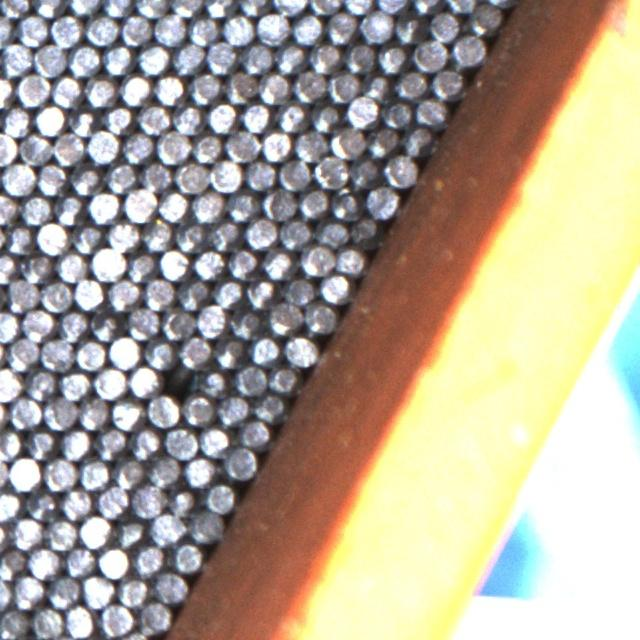tool: (144, 392, 180, 427), (130, 483, 166, 518), (146, 452, 182, 487), (132, 541, 166, 576), (55, 307, 89, 342), (5, 335, 39, 370), (8, 395, 42, 430), (244, 214, 278, 249), (122, 187, 156, 222), (412, 37, 447, 71), (23, 366, 57, 401), (312, 154, 347, 188), (221, 445, 256, 479), (265, 299, 299, 334), (182, 392, 216, 426), (107, 334, 141, 368), (208, 158, 242, 192), (324, 9, 358, 43), (81, 572, 115, 606), (300, 242, 334, 276), (152, 570, 186, 604), (156, 129, 190, 163), (170, 41, 204, 75), (136, 41, 170, 75), (43, 395, 77, 429), (226, 188, 260, 222), (308, 40, 342, 74), (1, 161, 35, 195), (100, 602, 134, 636), (120, 130, 154, 164), (67, 42, 101, 76), (262, 186, 296, 220), (225, 128, 259, 162), (9, 516, 43, 550), (93, 425, 127, 459), (150, 511, 184, 545), (160, 306, 194, 340), (46, 573, 80, 607), (84, 73, 118, 107), (282, 273, 316, 307), (39, 337, 73, 371), (191, 188, 225, 222), (164, 424, 198, 458), (261, 246, 295, 280), (50, 73, 84, 107), (224, 68, 258, 102), (278, 215, 312, 249), (347, 154, 381, 188), (126, 305, 160, 339), (228, 304, 262, 338), (24, 426, 58, 460), (212, 335, 246, 369), (330, 124, 364, 158), (116, 573, 150, 607), (290, 12, 324, 46), (110, 454, 144, 488), (292, 68, 326, 102), (243, 275, 277, 309), (72, 276, 106, 310), (392, 10, 426, 44), (383, 153, 417, 187), (284, 334, 318, 368), (314, 215, 348, 249), (140, 160, 174, 194), (38, 278, 72, 312), (136, 601, 170, 635), (188, 508, 222, 542), (102, 41, 135, 76), (85, 12, 118, 47), (8, 456, 41, 491), (95, 483, 128, 518), (197, 423, 232, 456), (297, 185, 330, 219), (452, 33, 486, 66), (221, 12, 254, 46), (10, 574, 43, 608), (157, 188, 190, 222), (74, 337, 108, 370), (96, 545, 130, 578), (92, 365, 126, 398), (104, 160, 138, 193), (18, 193, 52, 226), (69, 162, 103, 195), (129, 424, 162, 458), (77, 396, 110, 430), (106, 218, 139, 252), (110, 396, 143, 430), (360, 8, 393, 42), (278, 157, 311, 191), (429, 8, 462, 42), (179, 334, 212, 368), (258, 71, 292, 104), (330, 186, 363, 220), (143, 336, 177, 369), (50, 13, 83, 47), (127, 363, 160, 397), (248, 333, 281, 367), (58, 367, 91, 401), (21, 307, 54, 341), (326, 69, 360, 102), (188, 70, 221, 104), (259, 127, 292, 161), (19, 250, 53, 283), (17, 132, 51, 165), (119, 72, 153, 105), (208, 217, 241, 251), (273, 41, 307, 74), (225, 245, 259, 278), (25, 486, 58, 520), (187, 13, 220, 47), (431, 66, 465, 99), (243, 157, 277, 190), (15, 72, 49, 105), (344, 95, 378, 128), (33, 102, 67, 135), (90, 247, 124, 280), (5, 277, 38, 311), (87, 188, 120, 222), (177, 276, 210, 310), (343, 40, 377, 73), (216, 391, 249, 425), (294, 128, 327, 162), (136, 101, 170, 134), (124, 248, 157, 282), (394, 67, 428, 100), (196, 365, 230, 398), (366, 184, 399, 218), (161, 359, 195, 392), (69, 220, 104, 252), (44, 517, 77, 550), (154, 72, 187, 105), (33, 42, 66, 75), (119, 13, 152, 46), (78, 514, 111, 547), (205, 40, 238, 73), (27, 545, 60, 578), (233, 362, 266, 395), (256, 12, 289, 45), (53, 193, 86, 226), (376, 40, 409, 73), (35, 162, 68, 195), (60, 486, 93, 519), (107, 277, 140, 310), (42, 457, 75, 490), (59, 426, 92, 459), (16, 13, 49, 46), (239, 41, 272, 74), (275, 99, 308, 132), (0, 104, 33, 137), (140, 217, 173, 250), (240, 99, 273, 132), (77, 456, 110, 489), (172, 102, 205, 135), (401, 123, 434, 156), (365, 124, 398, 157), (166, 483, 199, 516), (113, 514, 146, 547), (176, 159, 208, 193), (169, 540, 203, 572), (52, 131, 84, 165), (0, 42, 32, 76), (62, 544, 94, 578), (85, 130, 119, 162), (308, 100, 342, 132), (174, 218, 206, 252), (414, 95, 448, 127), (304, 300, 336, 334), (236, 416, 270, 448), (158, 246, 190, 279), (55, 249, 87, 282), (36, 220, 68, 253), (154, 12, 186, 45), (4, 223, 36, 256), (206, 100, 238, 133), (183, 454, 216, 486), (142, 276, 174, 309), (30, 606, 63, 638), (253, 390, 286, 422), (348, 212, 380, 245), (192, 246, 224, 279), (318, 271, 351, 303), (194, 304, 227, 336), (102, 102, 134, 135), (90, 307, 122, 340), (204, 480, 236, 513), (467, 2, 500, 34), (381, 97, 413, 129), (334, 245, 366, 277), (64, 604, 96, 636), (67, 105, 99, 137), (191, 130, 223, 162), (268, 362, 300, 394), (361, 72, 394, 103), (211, 277, 243, 308), (0, 606, 28, 640), (0, 546, 26, 580), (0, 426, 23, 460), (0, 366, 22, 400), (0, 488, 23, 520), (34, 0, 66, 19), (0, 308, 19, 340), (0, 190, 17, 224), (204, 0, 236, 18), (136, 0, 168, 18), (0, 0, 32, 18), (0, 252, 18, 284), (170, 0, 203, 17), (0, 131, 16, 165), (102, 0, 134, 17), (237, 0, 270, 16), (272, 0, 306, 15), (0, 74, 15, 108), (409, 0, 444, 14), (68, 0, 100, 15), (342, 0, 376, 14), (308, 0, 342, 13), (0, 14, 13, 48), (376, 0, 408, 13)
